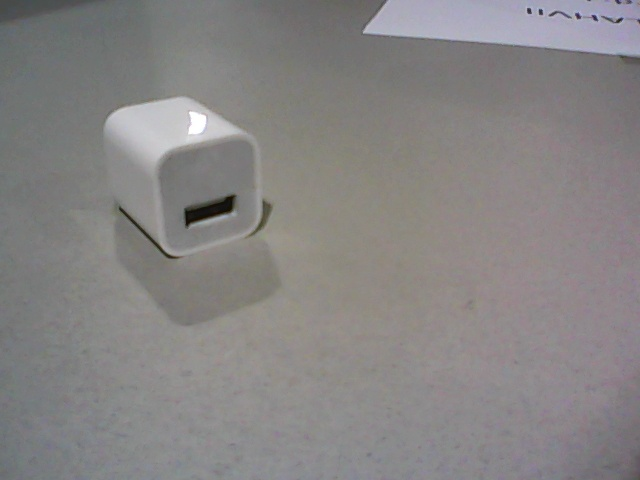charger: (103, 95, 263, 259)
